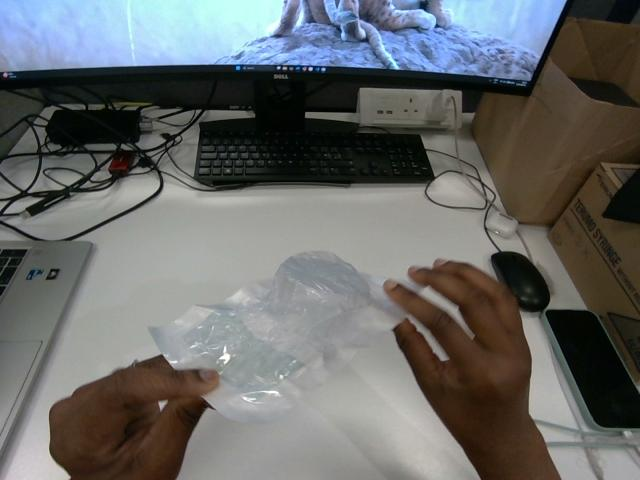gallipot: (150, 252, 405, 421)
